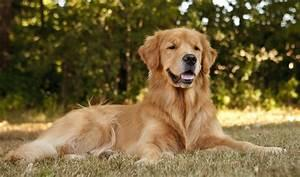dog: (4, 26, 287, 166)
